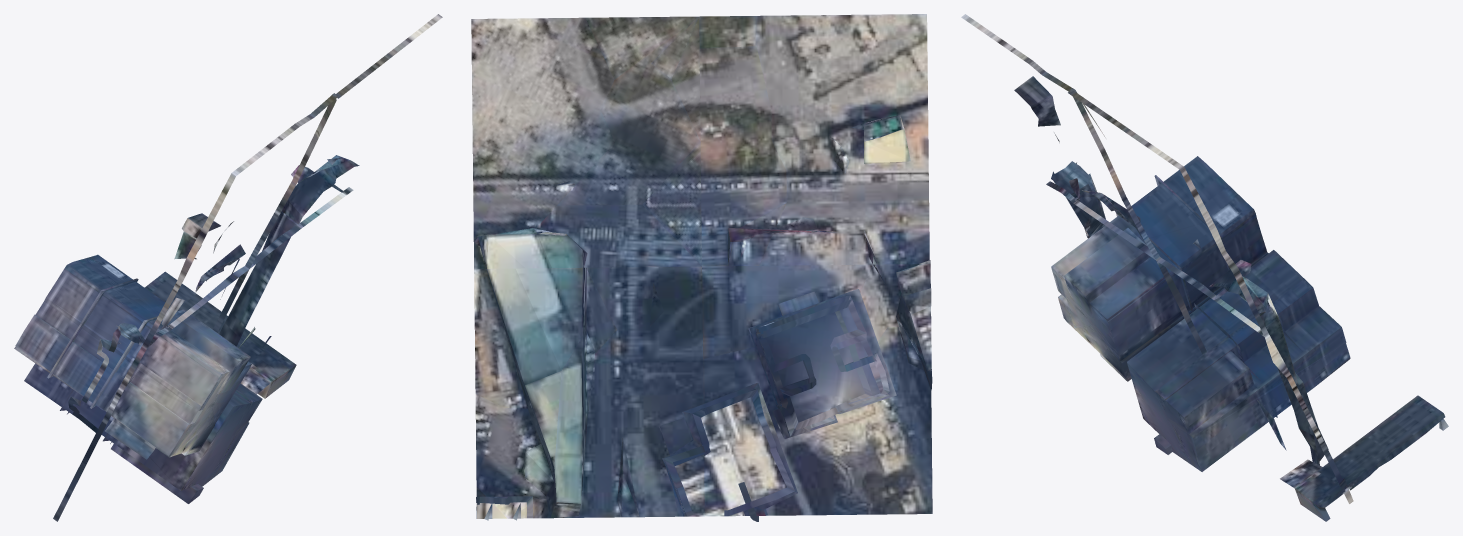
3 views of the same model, side by side, from view 1: azimuth 30°, elevation 25°; view 2: azimuth 150°, elevation 25°; view 3: azimuth 270°, elevation 25° (orthographic). The views are drawn at different scales.
Bounding box in the file's own units: 154 × 148 × 161.
Materials: 1 (1 with a texture image).
